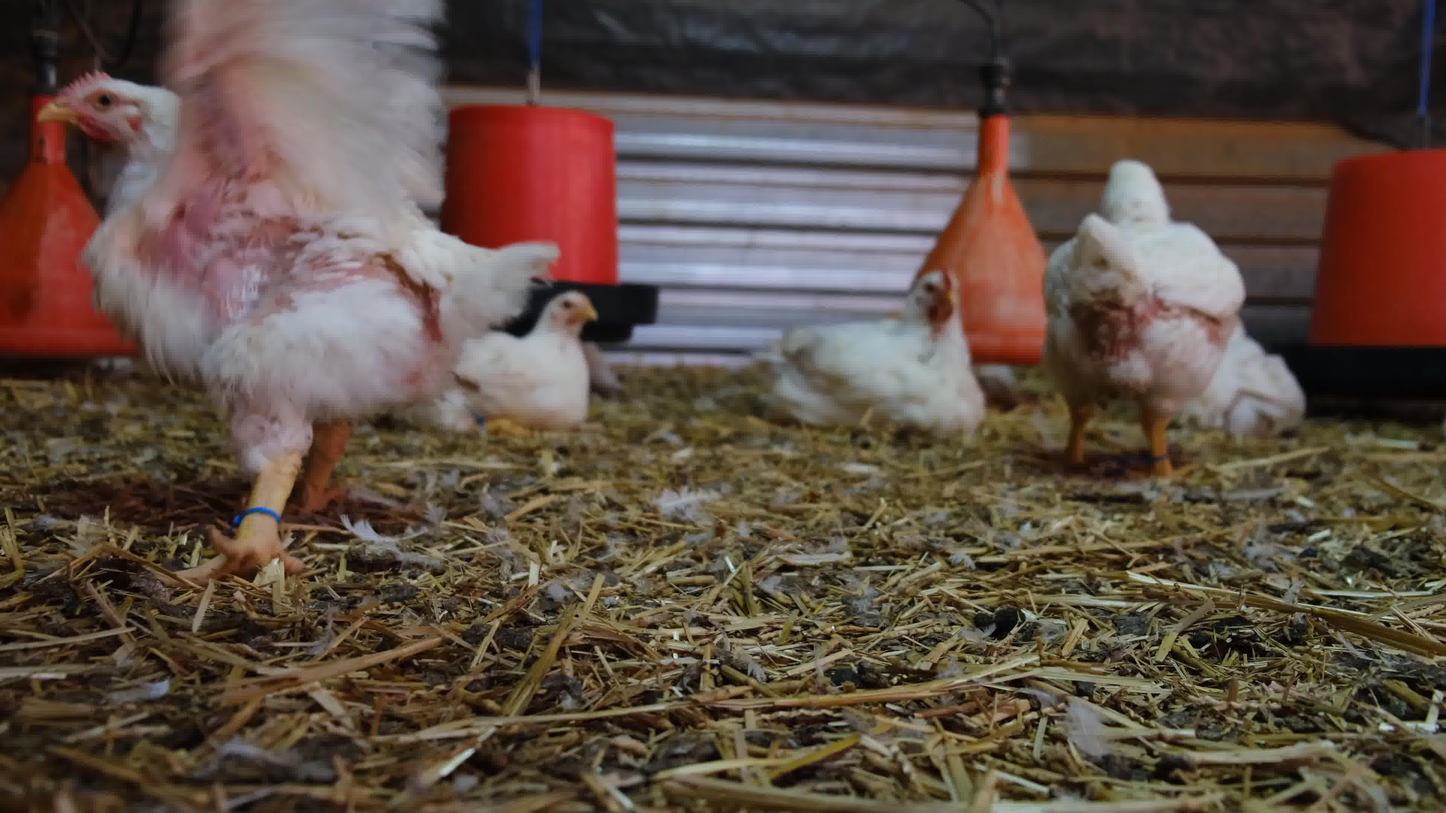AbNormal: (757, 268, 991, 432), (393, 290, 603, 432), (1165, 318, 1309, 437)
Normal: (38, 0, 546, 581), (1043, 160, 1244, 491)
